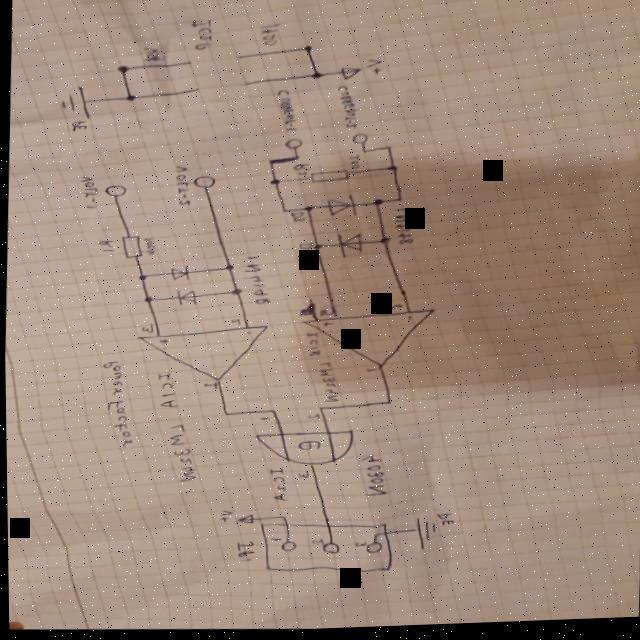diode: (330, 232, 364, 262), (321, 196, 357, 220), (170, 289, 199, 309), (164, 265, 191, 283)
ground: (54, 82, 91, 122), (406, 519, 434, 554)
junction: (308, 73, 322, 81), (375, 240, 390, 247), (114, 66, 127, 74), (308, 245, 321, 252), (134, 274, 146, 281), (221, 265, 233, 272), (140, 297, 152, 304), (369, 202, 382, 208), (227, 290, 240, 296), (123, 95, 135, 101), (266, 180, 278, 186), (299, 47, 311, 53), (313, 407, 323, 414), (301, 208, 311, 214), (218, 412, 228, 418), (265, 410, 275, 416), (385, 167, 395, 173), (264, 160, 274, 166), (289, 157, 299, 163), (381, 402, 390, 408), (381, 147, 390, 152), (393, 200, 402, 204), (278, 210, 286, 214), (276, 517, 284, 521), (358, 152, 366, 156)
resistor: (303, 169, 349, 187), (117, 234, 142, 259)
source: (337, 68, 359, 83), (231, 514, 251, 527)
terminal: (252, 518, 396, 582), (189, 175, 216, 191), (102, 184, 127, 198), (281, 139, 301, 152), (348, 134, 367, 147), (182, 60, 192, 67), (232, 55, 242, 61), (191, 87, 201, 93), (239, 82, 247, 87)
text: (98, 359, 132, 451), (161, 420, 200, 486), (238, 254, 275, 310), (352, 453, 391, 502), (331, 87, 360, 132), (166, 163, 194, 209), (271, 89, 298, 134), (387, 208, 415, 249), (311, 363, 337, 405), (74, 174, 101, 211), (186, 17, 213, 53), (152, 371, 176, 410), (263, 467, 286, 505), (228, 540, 255, 566), (300, 331, 320, 361), (256, 23, 279, 49), (139, 46, 164, 66), (139, 237, 159, 258), (363, 60, 382, 78), (343, 156, 361, 173), (94, 240, 114, 255), (213, 509, 232, 524), (295, 243, 313, 258), (290, 165, 308, 179), (288, 212, 306, 226), (433, 515, 452, 528), (317, 306, 332, 321), (67, 121, 86, 132), (293, 471, 309, 482), (200, 382, 217, 390), (137, 325, 151, 334), (303, 414, 317, 423), (153, 338, 168, 346), (360, 369, 376, 376), (316, 322, 330, 329), (255, 416, 268, 423), (386, 306, 400, 312), (226, 320, 238, 326), (241, 331, 249, 338), (403, 319, 412, 325)
